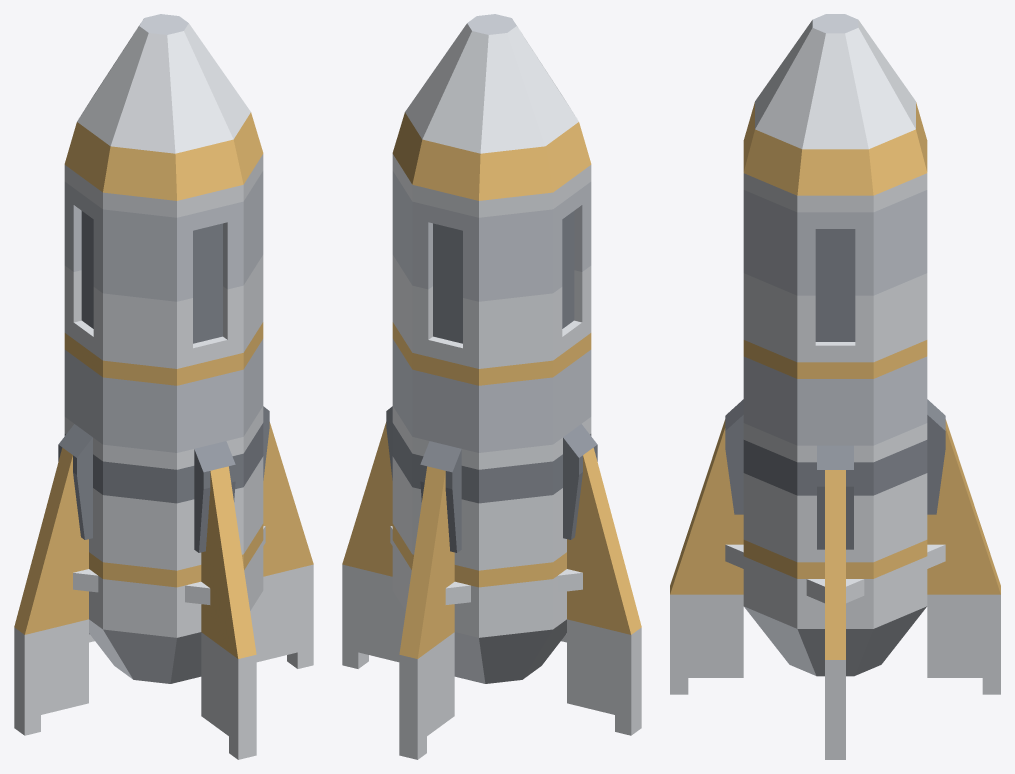
Rendered from otherRocket.gltf.
The picture shows the model from 3 angles, left to right: view 1: azimuth 30°, elevation 25°; view 2: azimuth 150°, elevation 25°; view 3: azimuth 270°, elevation 25°; orthographic projection.
Visible parts, largest first — view 1: rocket_baseA, rocket_sidesA, rocket_topA, rocket_finsA, rocket_fuelA; view 2: rocket_baseA, rocket_sidesA, rocket_topA, rocket_finsA, rocket_fuelA; view 3: rocket_baseA, rocket_sidesA, rocket_topA, rocket_finsA, rocket_fuelA.
Part boxes in pixels (x1,y1,x2,y2): rocket_baseA: [14, 422, 313, 759]; rocket_sidesA: [64, 154, 263, 368]; rocket_topA: [64, 14, 263, 200]; rocket_finsA: [58, 406, 269, 570]; rocket_fuelA: [64, 322, 263, 452]; rocket_baseA: [342, 422, 641, 759]; rocket_sidesA: [392, 154, 591, 368]; rocket_topA: [392, 14, 591, 200]; rocket_finsA: [386, 406, 597, 570]; rocket_fuelA: [392, 322, 591, 452]; rocket_baseA: [670, 419, 1000, 759]; rocket_sidesA: [743, 173, 927, 362]; rocket_topA: [743, 14, 927, 195]; rocket_finsA: [725, 399, 945, 562]; rocket_fuelA: [743, 340, 927, 445].
Size of the model in its own units: 1.8 by 4 by 1.8.
